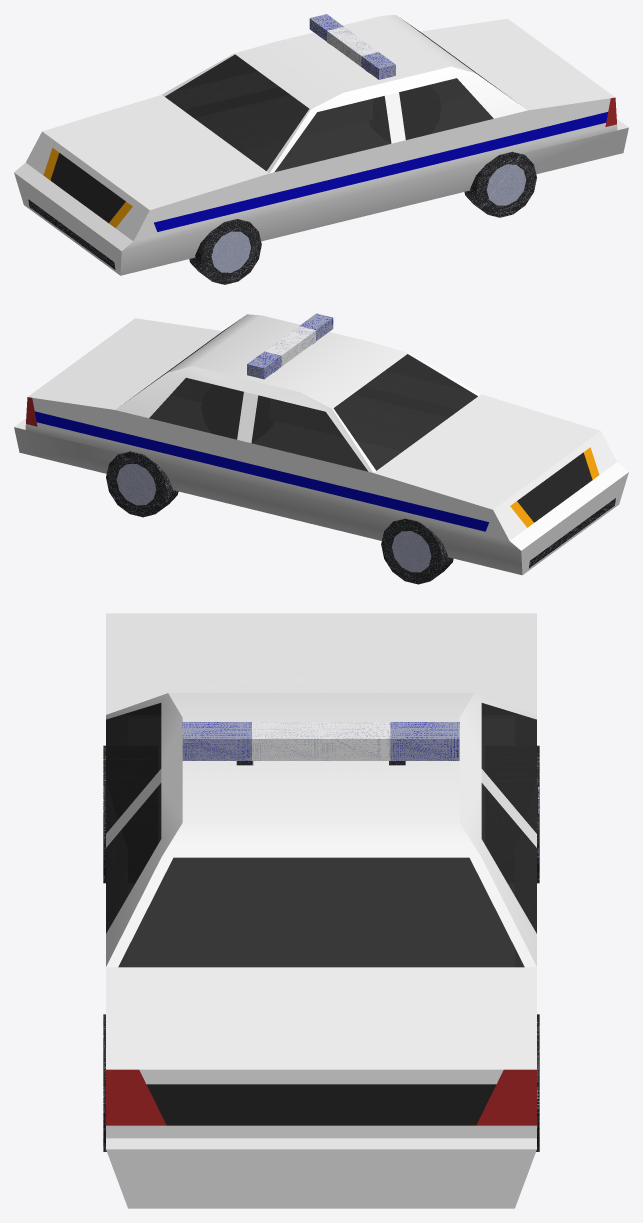
Rendered from police-car.fbx.
3 views of the same model, one above another, from view 1: azimuth 30°, elevation 25°; view 2: azimuth 150°, elevation 25°; view 3: azimuth 270°, elevation 25° (orthographic). The views are drawn at different scales.
Visible parts, largest first — view 1: car_police1, car_wheel_2_2, car_wheel_2_1; view 2: car_police1, car_wheel_2_4, car_wheel_2_3; view 3: car_police1.
Part boxes in pixels (x1,y1,x2,y2): car_police1: [14, 14, 628, 275]; car_wheel_2_2: [464, 151, 536, 217]; car_wheel_2_1: [189, 219, 261, 284]; car_police1: [14, 313, 628, 575]; car_wheel_2_4: [381, 518, 453, 584]; car_wheel_2_3: [106, 451, 178, 517]; car_police1: [106, 613, 536, 1208].
Bounding box in the file's own units: 5.38 × 1.61 × 2.01.
